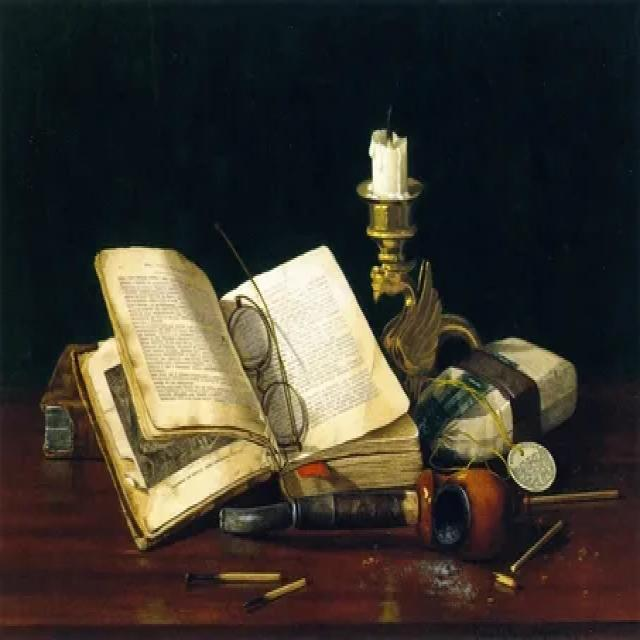book: (67, 216, 426, 552)
